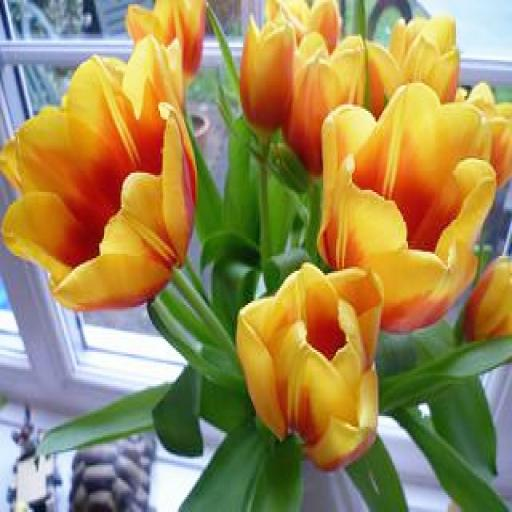tulip: (323, 81, 491, 335), (238, 260, 382, 476), (286, 32, 366, 173), (240, 19, 293, 141)
